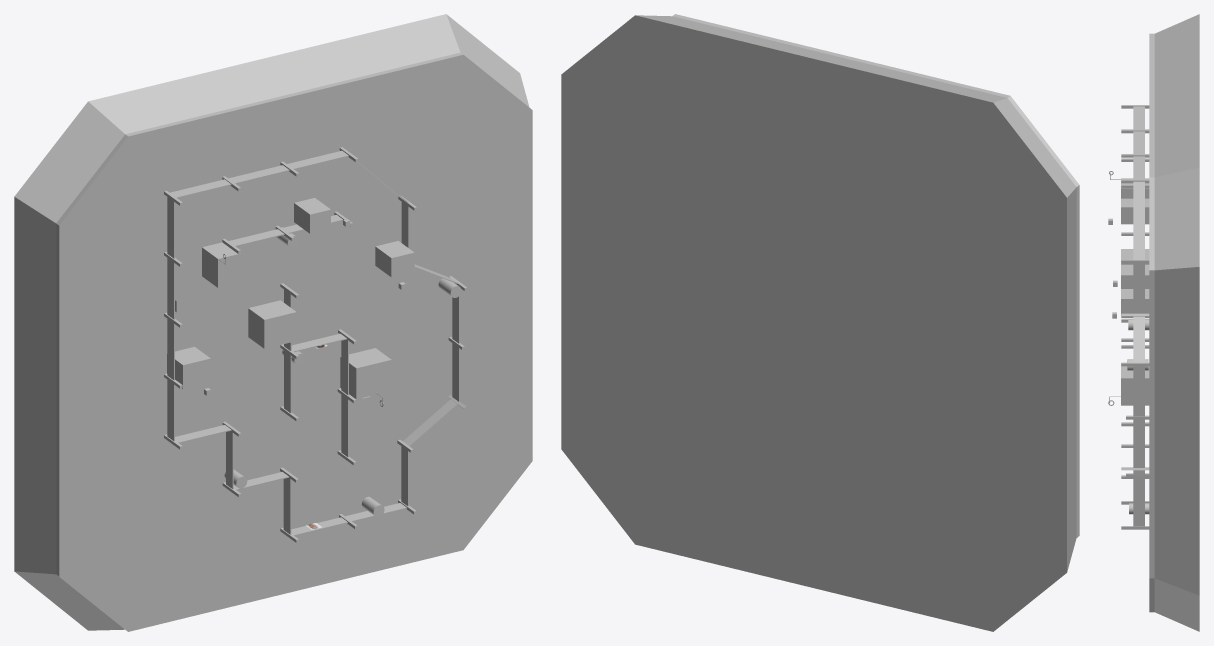
File: map.obj
3 renders of one model, left to right at view 1: azimuth 30°, elevation 25°; view 2: azimuth 150°, elevation 25°; view 3: azimuth 270°, elevation 25°, orthographic. The views are drawn at different scales.
Visible parts, largest first — view 1: main.001_ground, main.001_Green, main.001_objects; view 2: main.001_Green, main.001_ground; view 3: main.001_Green, main.001_objects, main.001_ground, main.001_Black, main.001_Yellow.
Boxes of the visible parts, x1=… form: main.001_ground: x1=56, y1=52, x2=532, y2=631; main.001_Green: x1=14, y1=14, x2=529, y2=630; main.001_objects: x1=164, y1=147, x2=467, y2=542; main.001_Green: x1=561, y1=15, x2=1076, y2=631; main.001_ground: x1=672, y1=14, x2=1079, y2=537; main.001_Green: x1=1108, y1=14, x2=1199, y2=631; main.001_objects: x1=1109, y1=105, x2=1149, y2=529; main.001_ground: x1=1149, y1=33, x2=1154, y2=612; main.001_Black: x1=1109, y1=171, x2=1149, y2=514; main.001_Yellow: x1=1112, y1=312, x2=1149, y2=330.
Size of the model in its own units: 10.95 by 10.95 by 1.95.
